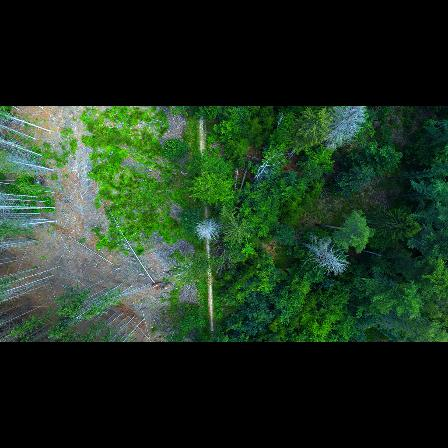Dead: (315, 105, 371, 156), (300, 231, 350, 275), (192, 216, 221, 244)
